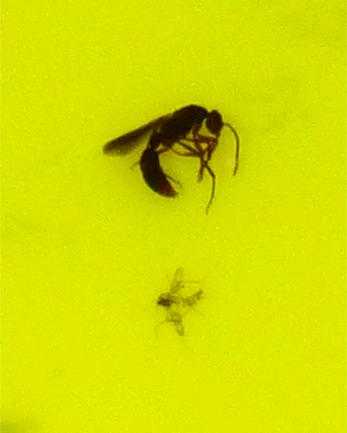Hymenoptera: (100, 100, 247, 203)
Nematocera: (154, 278, 204, 333)
